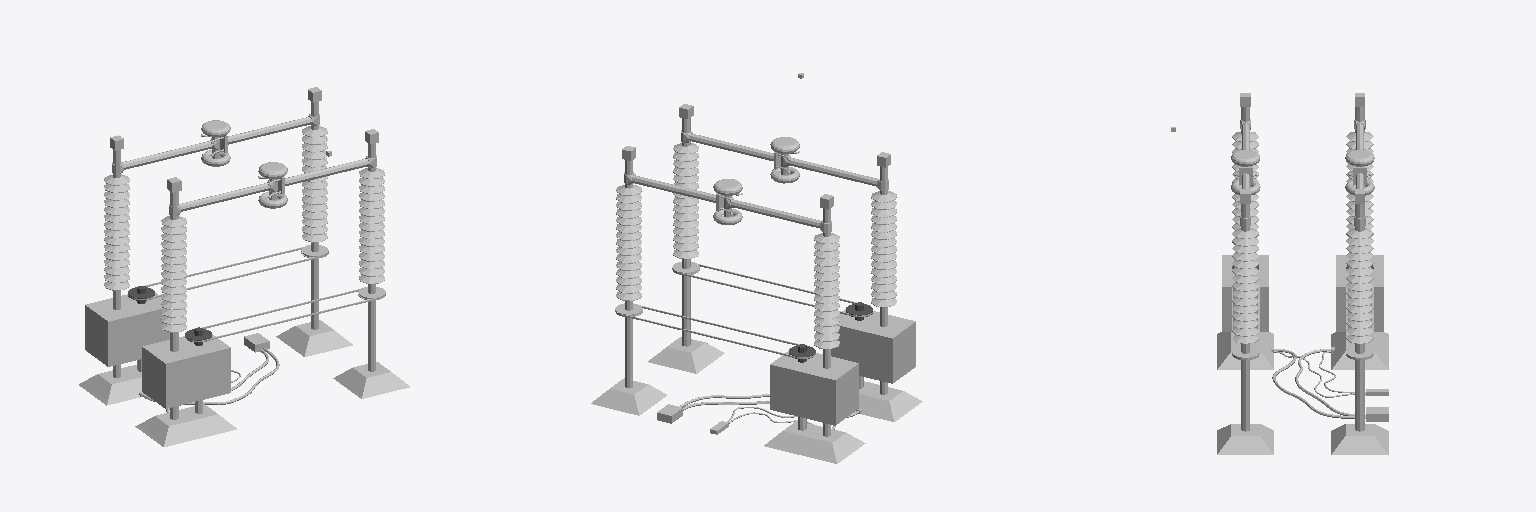
The model's file is ElnGridSwitch.obj.
3 views of the same model, side by side, from view 1: azimuth 30°, elevation 25°; view 2: azimuth 150°, elevation 25°; view 3: azimuth 270°, elevation 25° (orthographic).
Visible parts, largest first — view 1: SwitchBase_SwitchBaseMesh, Contact_M1_ContactMMesh_1, Contact_M2_ContactMMesh_2.001, Contact_F1_ContactFMesh_1, Contact_F2_ContactFMesh_2, Lid_1_LidMesh_1, Belt_1_BeltMesh_1, Belt_2_BeltMesh_2; view 2: SwitchBase_SwitchBaseMesh, Contact_M1_ContactMMesh_1, Contact_M2_ContactMMesh_2.001, Contact_F2_ContactFMesh_2, Contact_F1_ContactFMesh_1, Lid_2_LidMesh_2, Belt_2_BeltMesh_2, Belt_1_BeltMesh_1; view 3: SwitchBase_SwitchBaseMesh, Contact_F2_ContactFMesh_2, Contact_F1_ContactFMesh_1, Contact_M2_ContactMMesh_2.001, Contact_M1_ContactMMesh_1.
Boxes of the visible parts, box(x1,y1,x2,y2) form: SwitchBase_SwitchBaseMesh: box(79, 258, 409, 446); Contact_M1_ContactMMesh_1: box(161, 162, 287, 351); Contact_M2_ContactMMesh_2.001: box(104, 120, 230, 309); Contact_F1_ContactFMesh_1: box(258, 129, 385, 299); Contact_F2_ContactFMesh_2: box(201, 87, 328, 257); Lid_1_LidMesh_1: box(164, 347, 230, 408); Belt_1_BeltMesh_1: box(185, 289, 385, 341); Belt_2_BeltMesh_2: box(128, 247, 328, 299); SwitchBase_SwitchBaseMesh: box(591, 275, 922, 463); Contact_M1_ContactMMesh_1: box(770, 137, 896, 326); Contact_M2_ContactMMesh_2.001: box(713, 179, 839, 368); Contact_F2_ContactFMesh_2: box(615, 146, 742, 316); Contact_F1_ContactFMesh_1: box(673, 104, 799, 274); Lid_2_LidMesh_2: box(770, 363, 836, 425); Belt_2_BeltMesh_2: box(615, 305, 815, 358); Belt_1_BeltMesh_1: box(672, 264, 872, 316); SwitchBase_SwitchBaseMesh: box(1217, 255, 1388, 454); Contact_F2_ContactFMesh_2: box(1346, 166, 1373, 359); Contact_F1_ContactFMesh_1: box(1232, 166, 1258, 359); Contact_M2_ContactMMesh_2.001: box(1345, 93, 1374, 244); Contact_M1_ContactMMesh_1: box(1231, 93, 1260, 244).
Size of the model in its own units: 5 by 5.34 by 3.8.